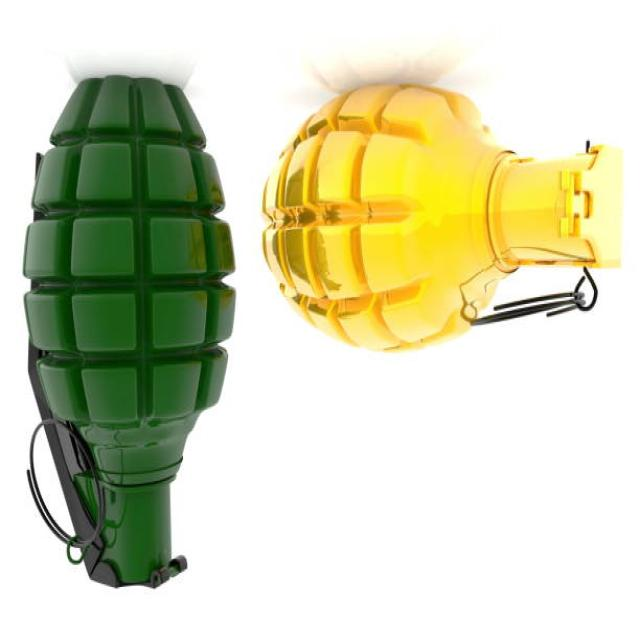grenade: (13, 68, 241, 597), (255, 76, 631, 363)
